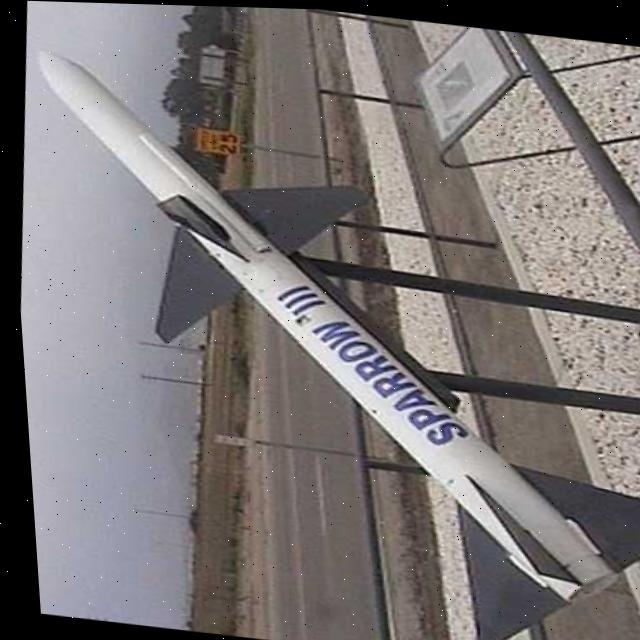missile: (2, 47, 634, 597)
